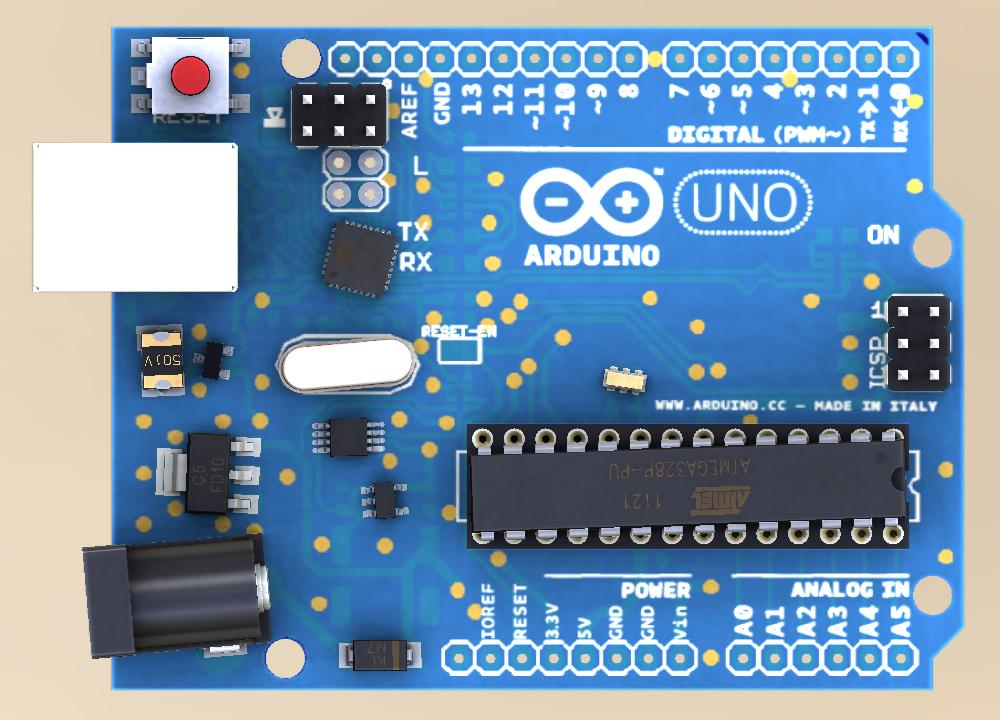16MHz Crystal: (597, 361, 649, 400)
ATMEL328P: (469, 421, 907, 550)
ATMega16u2: (315, 216, 402, 298)
Crystal: (274, 329, 421, 401)
Fuse: (130, 319, 190, 401)
LMV358: (353, 473, 413, 522)
M7 diode: (336, 629, 427, 679)
PIN Header: (886, 291, 952, 391), (290, 83, 385, 148)
Power: (81, 534, 270, 663)
Regulator: (133, 416, 269, 532)
Reset: (127, 36, 254, 120)
SSOT3: (189, 338, 240, 384)
USB: (29, 140, 246, 298)
lp2985: (303, 410, 390, 461)
